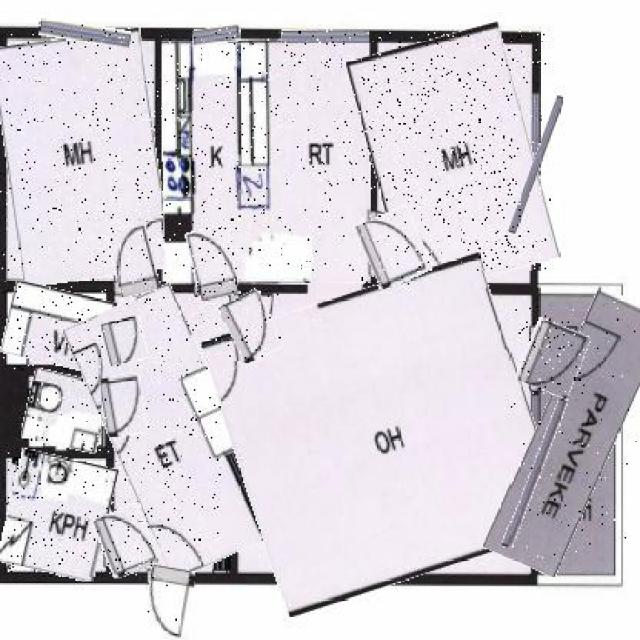door: (362, 209, 426, 285), (522, 322, 586, 396), (97, 506, 154, 576), (225, 291, 280, 360), (143, 566, 192, 640), (189, 226, 237, 299), (111, 224, 157, 296), (102, 374, 146, 437), (103, 318, 146, 364)
window: (518, 395, 556, 551), (520, 94, 552, 235), (38, 22, 131, 44), (280, 29, 368, 43), (194, 26, 240, 45)
zone: (222, 271, 550, 598), (162, 39, 370, 283), (90, 290, 256, 576), (362, 31, 546, 289), (0, 32, 163, 282), (511, 288, 640, 574), (3, 452, 112, 577), (3, 284, 114, 370), (24, 372, 108, 450)
